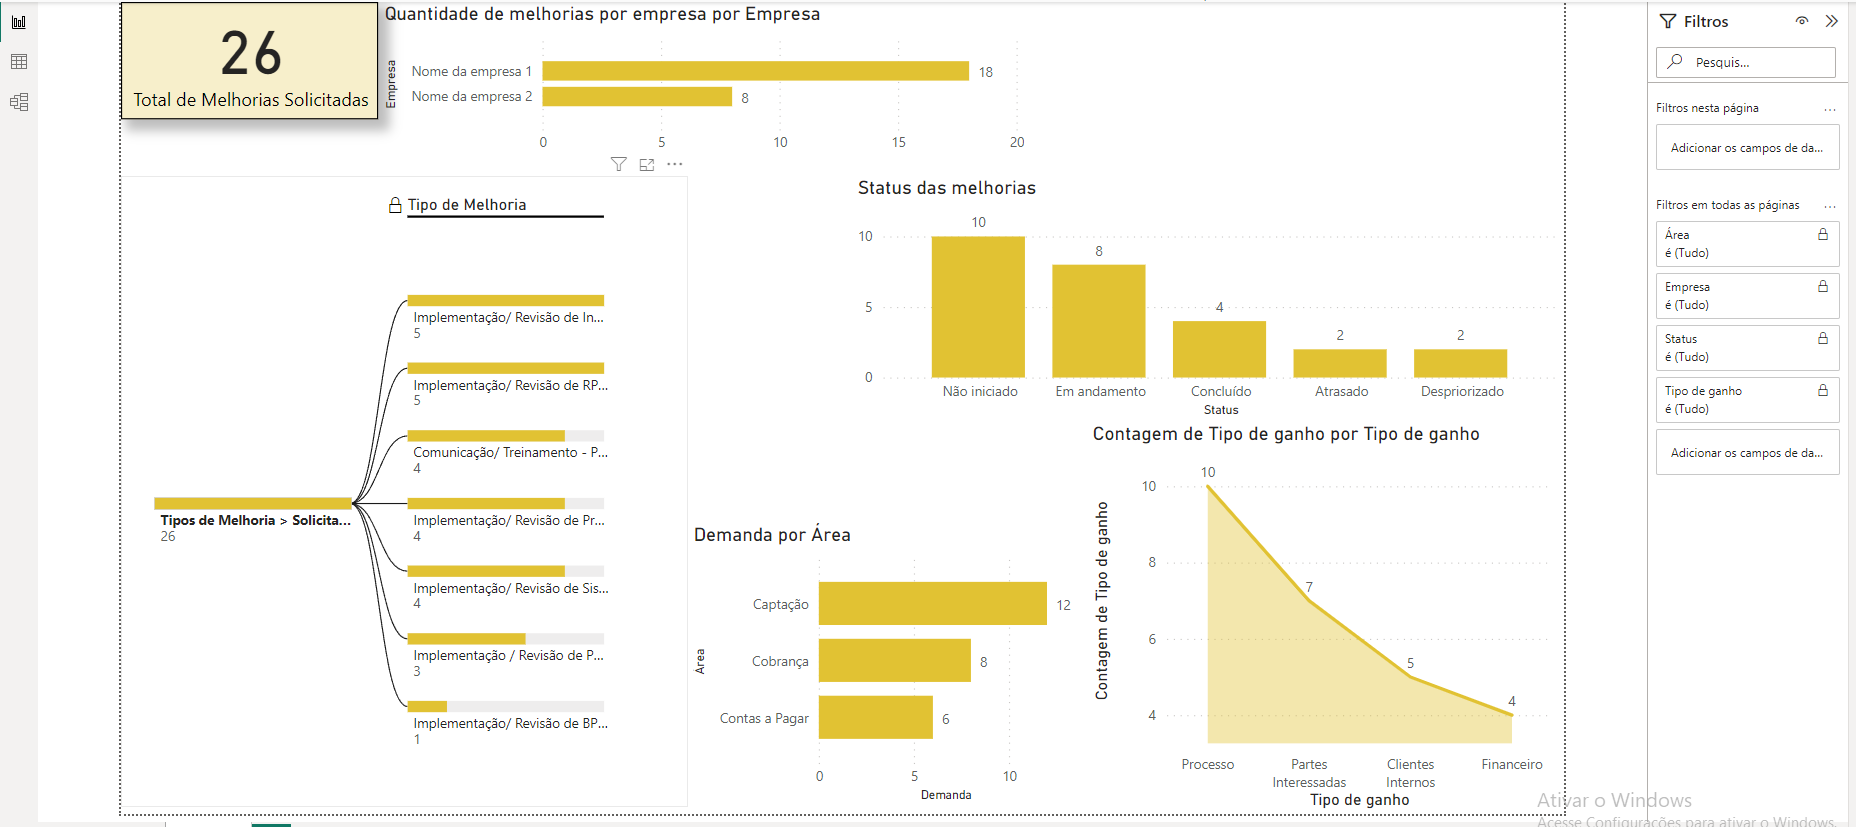

The dashboard page shown, as its layout file describes it:
{"tool":"powerbi","page":{"name":"Página 1","canvas":[1280,720],"ordinal":0},"visuals":[{"type":"barChart","fields":{"Y":["CountNonNull(Backlog.Tipo de Melhoria)"],"Category":["Backlog.Empresa"]},"box":[228.4,0,577.3,142.9],"z":1000},{"type":"card","fields":{"Values":["CountNonNull(Backlog.Tipo de Melhoria)"]},"box":[0,0,228.4,104],"z":2000},{"type":"decompositionTreeVisual","fields":{"ExplainBy":["Backlog.Tipo de Melhoria"],"Analyze":["CountNonNull(Backlog.Status)"]},"box":[0,154.5,502.5,558.8],"z":3000},{"type":"clusteredColumnChart","title":"Status das melhorias","fields":{"Category":["Backlog.Status"],"Y":["CountNonNull(Backlog.Status)"]},"box":[648.3,154.5,631.7,217.7],"z":4000},{"type":"stackedAreaChart","fields":{"Category":["Backlog.Tipo de ganho"],"Y":["CountNonNull(Backlog.Tipo de ganho)"]},"box":[856.2,372.2,423.8,347.9],"z":5000},{"type":"clusteredBarChart","fields":{"Category":["Backlog.Área Hierarquia.Área"],"Y":["CountNonNull(Backlog.Área)"]},"box":[502.5,461.7,353.8,251.7],"z":6000}]}

Visuals, with their boxes on the page's 1280x720 design canvas (x1, y1, x2, y2). These are canvas units, not pixel positions in the 1856x827 screenshot, which may show the page scaled, cropped or inside an application window:
barChart - CountNonNull(Backlog.Tipo de Melhoria) x Backlog.Empresa: bbox=[228, 0, 806, 143]
card - CountNonNull(Backlog.Tipo de Melhoria): bbox=[0, 0, 228, 104]
decompositionTreeVisual - Backlog.Tipo de Melhoria x CountNonNull(Backlog.Status): bbox=[0, 154, 502, 713]
"Status das melhorias" clusteredColumnChart: bbox=[648, 154, 1280, 372]
stackedAreaChart - Backlog.Tipo de ganho x CountNonNull(Backlog.Tipo de ganho): bbox=[856, 372, 1280, 720]
clusteredBarChart - Backlog.Área Hierarquia.Área x CountNonNull(Backlog.Área): bbox=[502, 462, 856, 713]
